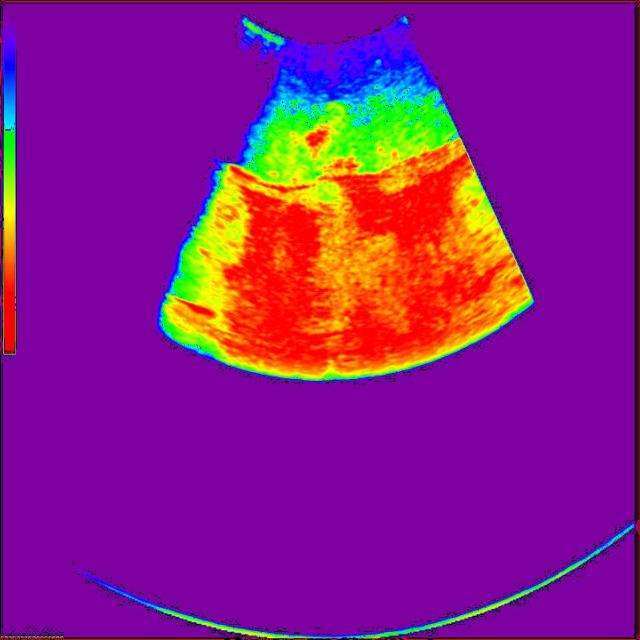lamb muscle post: (255, 102, 362, 184)
